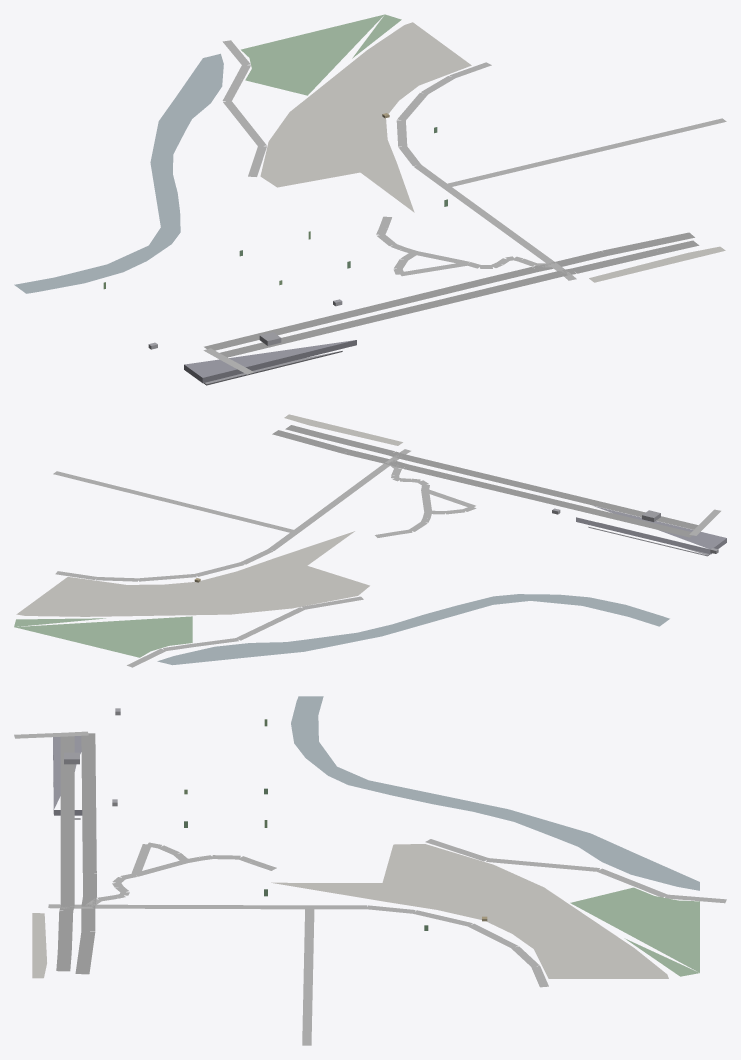
3 views of the same model, one above another, from view 1: azimuth 30°, elevation 25°; view 2: azimuth 150°, elevation 25°; view 3: azimuth 270°, elevation 25° (orthographic). The views are drawn at different scales.
Size of the model in its own units: 618 by 26.74 by 534.
